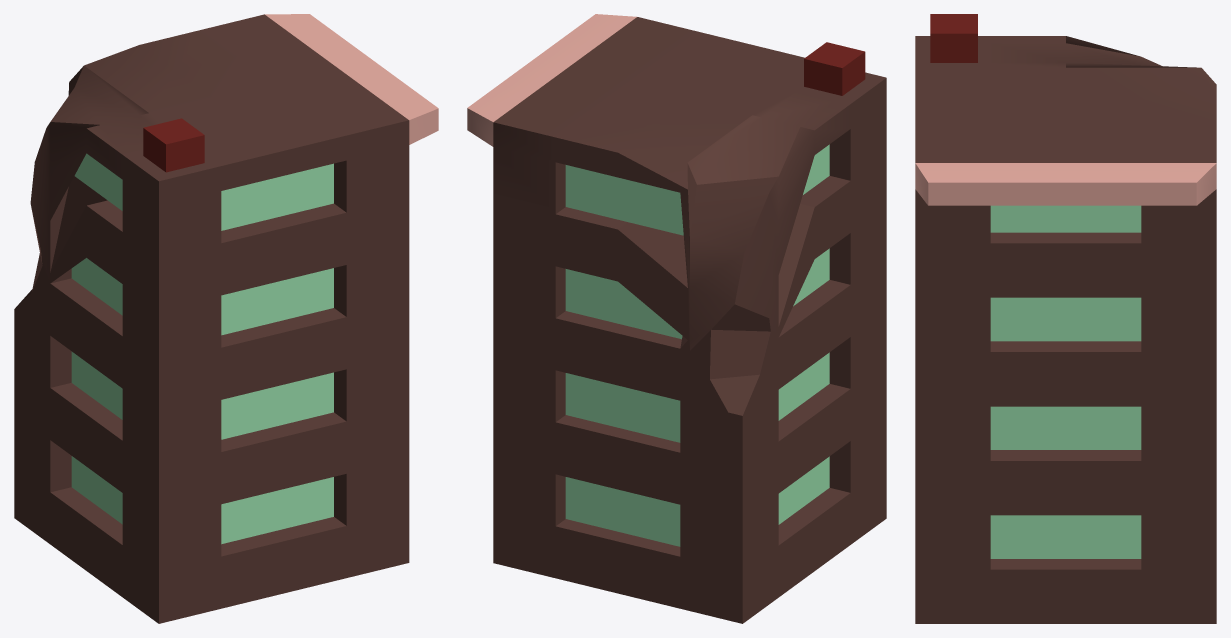
Rendered from edifiicio roto.fbx.
3 renders of one model, left to right at view 1: azimuth 30°, elevation 25°; view 2: azimuth 150°, elevation 25°; view 3: azimuth 270°, elevation 25°, orthographic. The views are drawn at different scales.
Visible parts, largest first — view 1: Cube; view 2: Cube; view 3: Cube.
Boxes of the visible parts, bbox=[...] form: Cube: bbox=[14, 14, 438, 623]; Cube: bbox=[467, 14, 886, 623]; Cube: bbox=[915, 14, 1216, 623].
Bounding box in the file's own units: 233 × 367 × 204.
